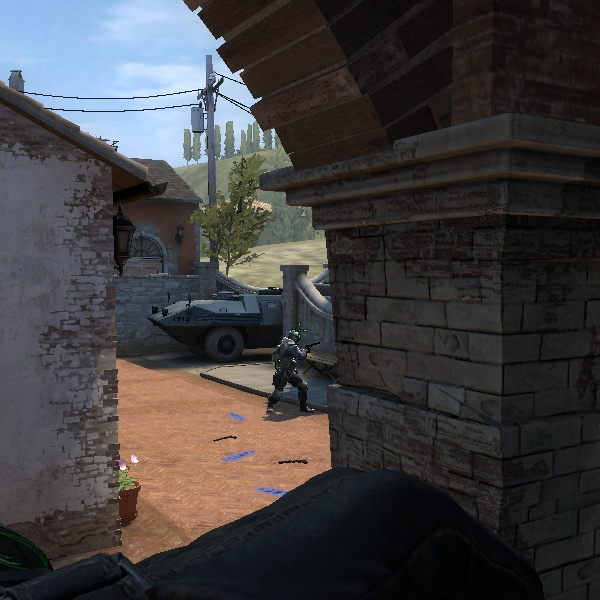ct_body: (264, 332, 311, 415)
